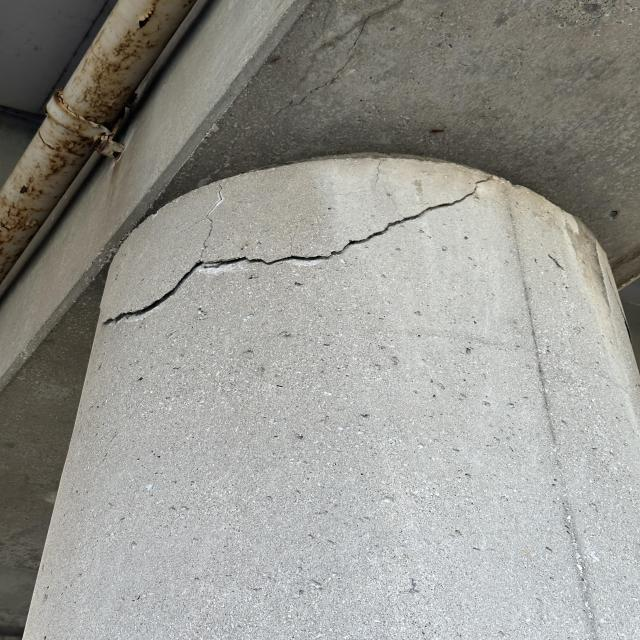Crack: (84, 157, 555, 369)
